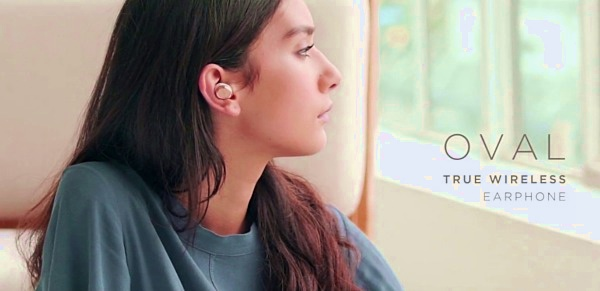earphone: (198, 64, 240, 118)
